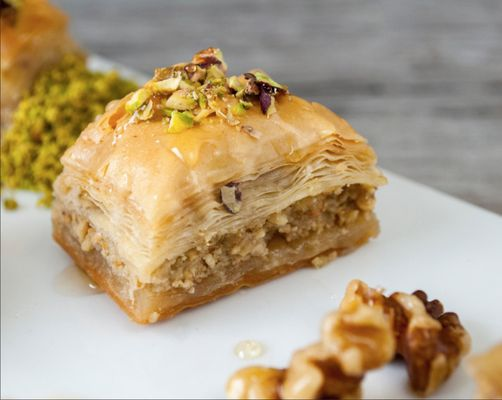curry: (0, 1, 142, 210)
